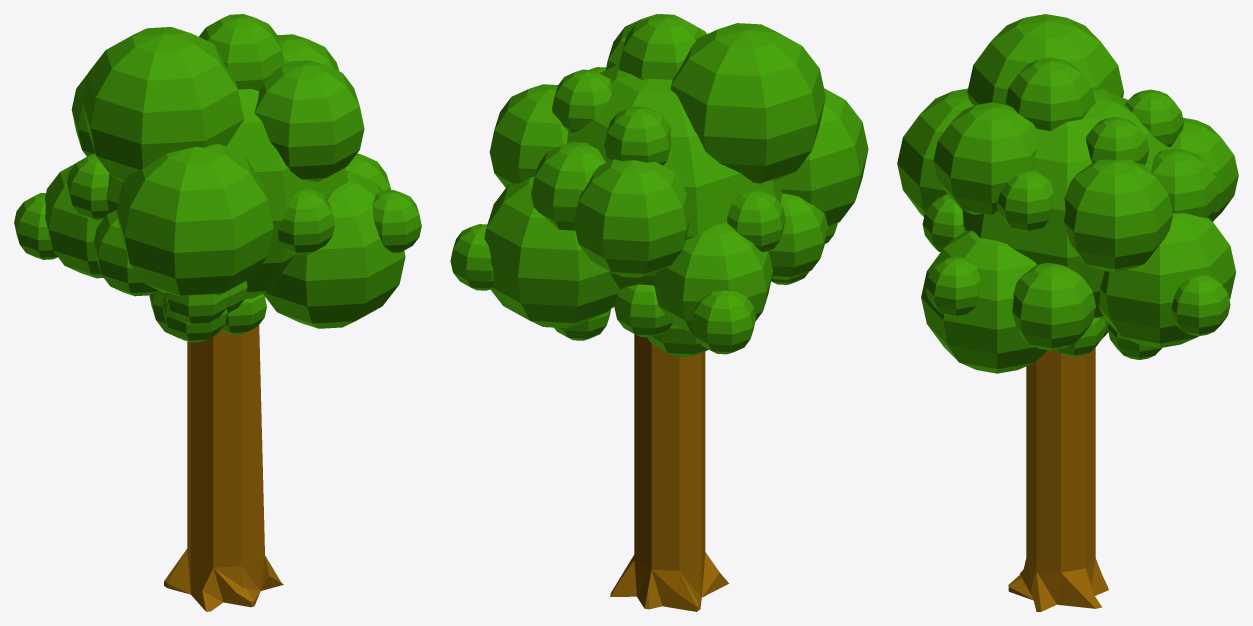
File: Tree_Round_small.fbx
The picture shows the model from 3 angles, left to right: view 1: azimuth 30°, elevation 25°; view 2: azimuth 150°, elevation 25°; view 3: azimuth 270°, elevation 25°; orthographic projection. The views are drawn at different scales.
Visible parts, largest first — view 1: Sphere.004; view 2: Sphere.004; view 3: Sphere.004.
Part boxes in pixels (x1,y1,x2,y2): Sphere.004: [14, 14, 421, 611]; Sphere.004: [450, 14, 868, 611]; Sphere.004: [897, 14, 1238, 611].
Size of the model in its own units: 215 by 385 by 222.
Materials: 1 (1 with a texture image).
